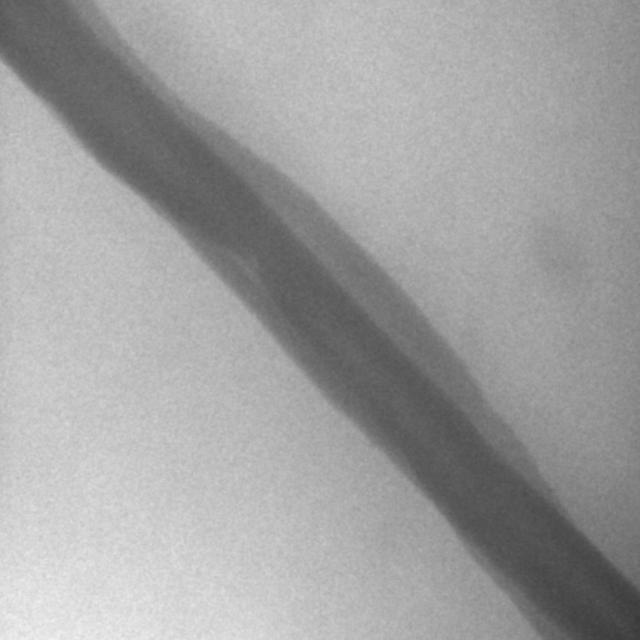unfused: (216, 240, 277, 304)
